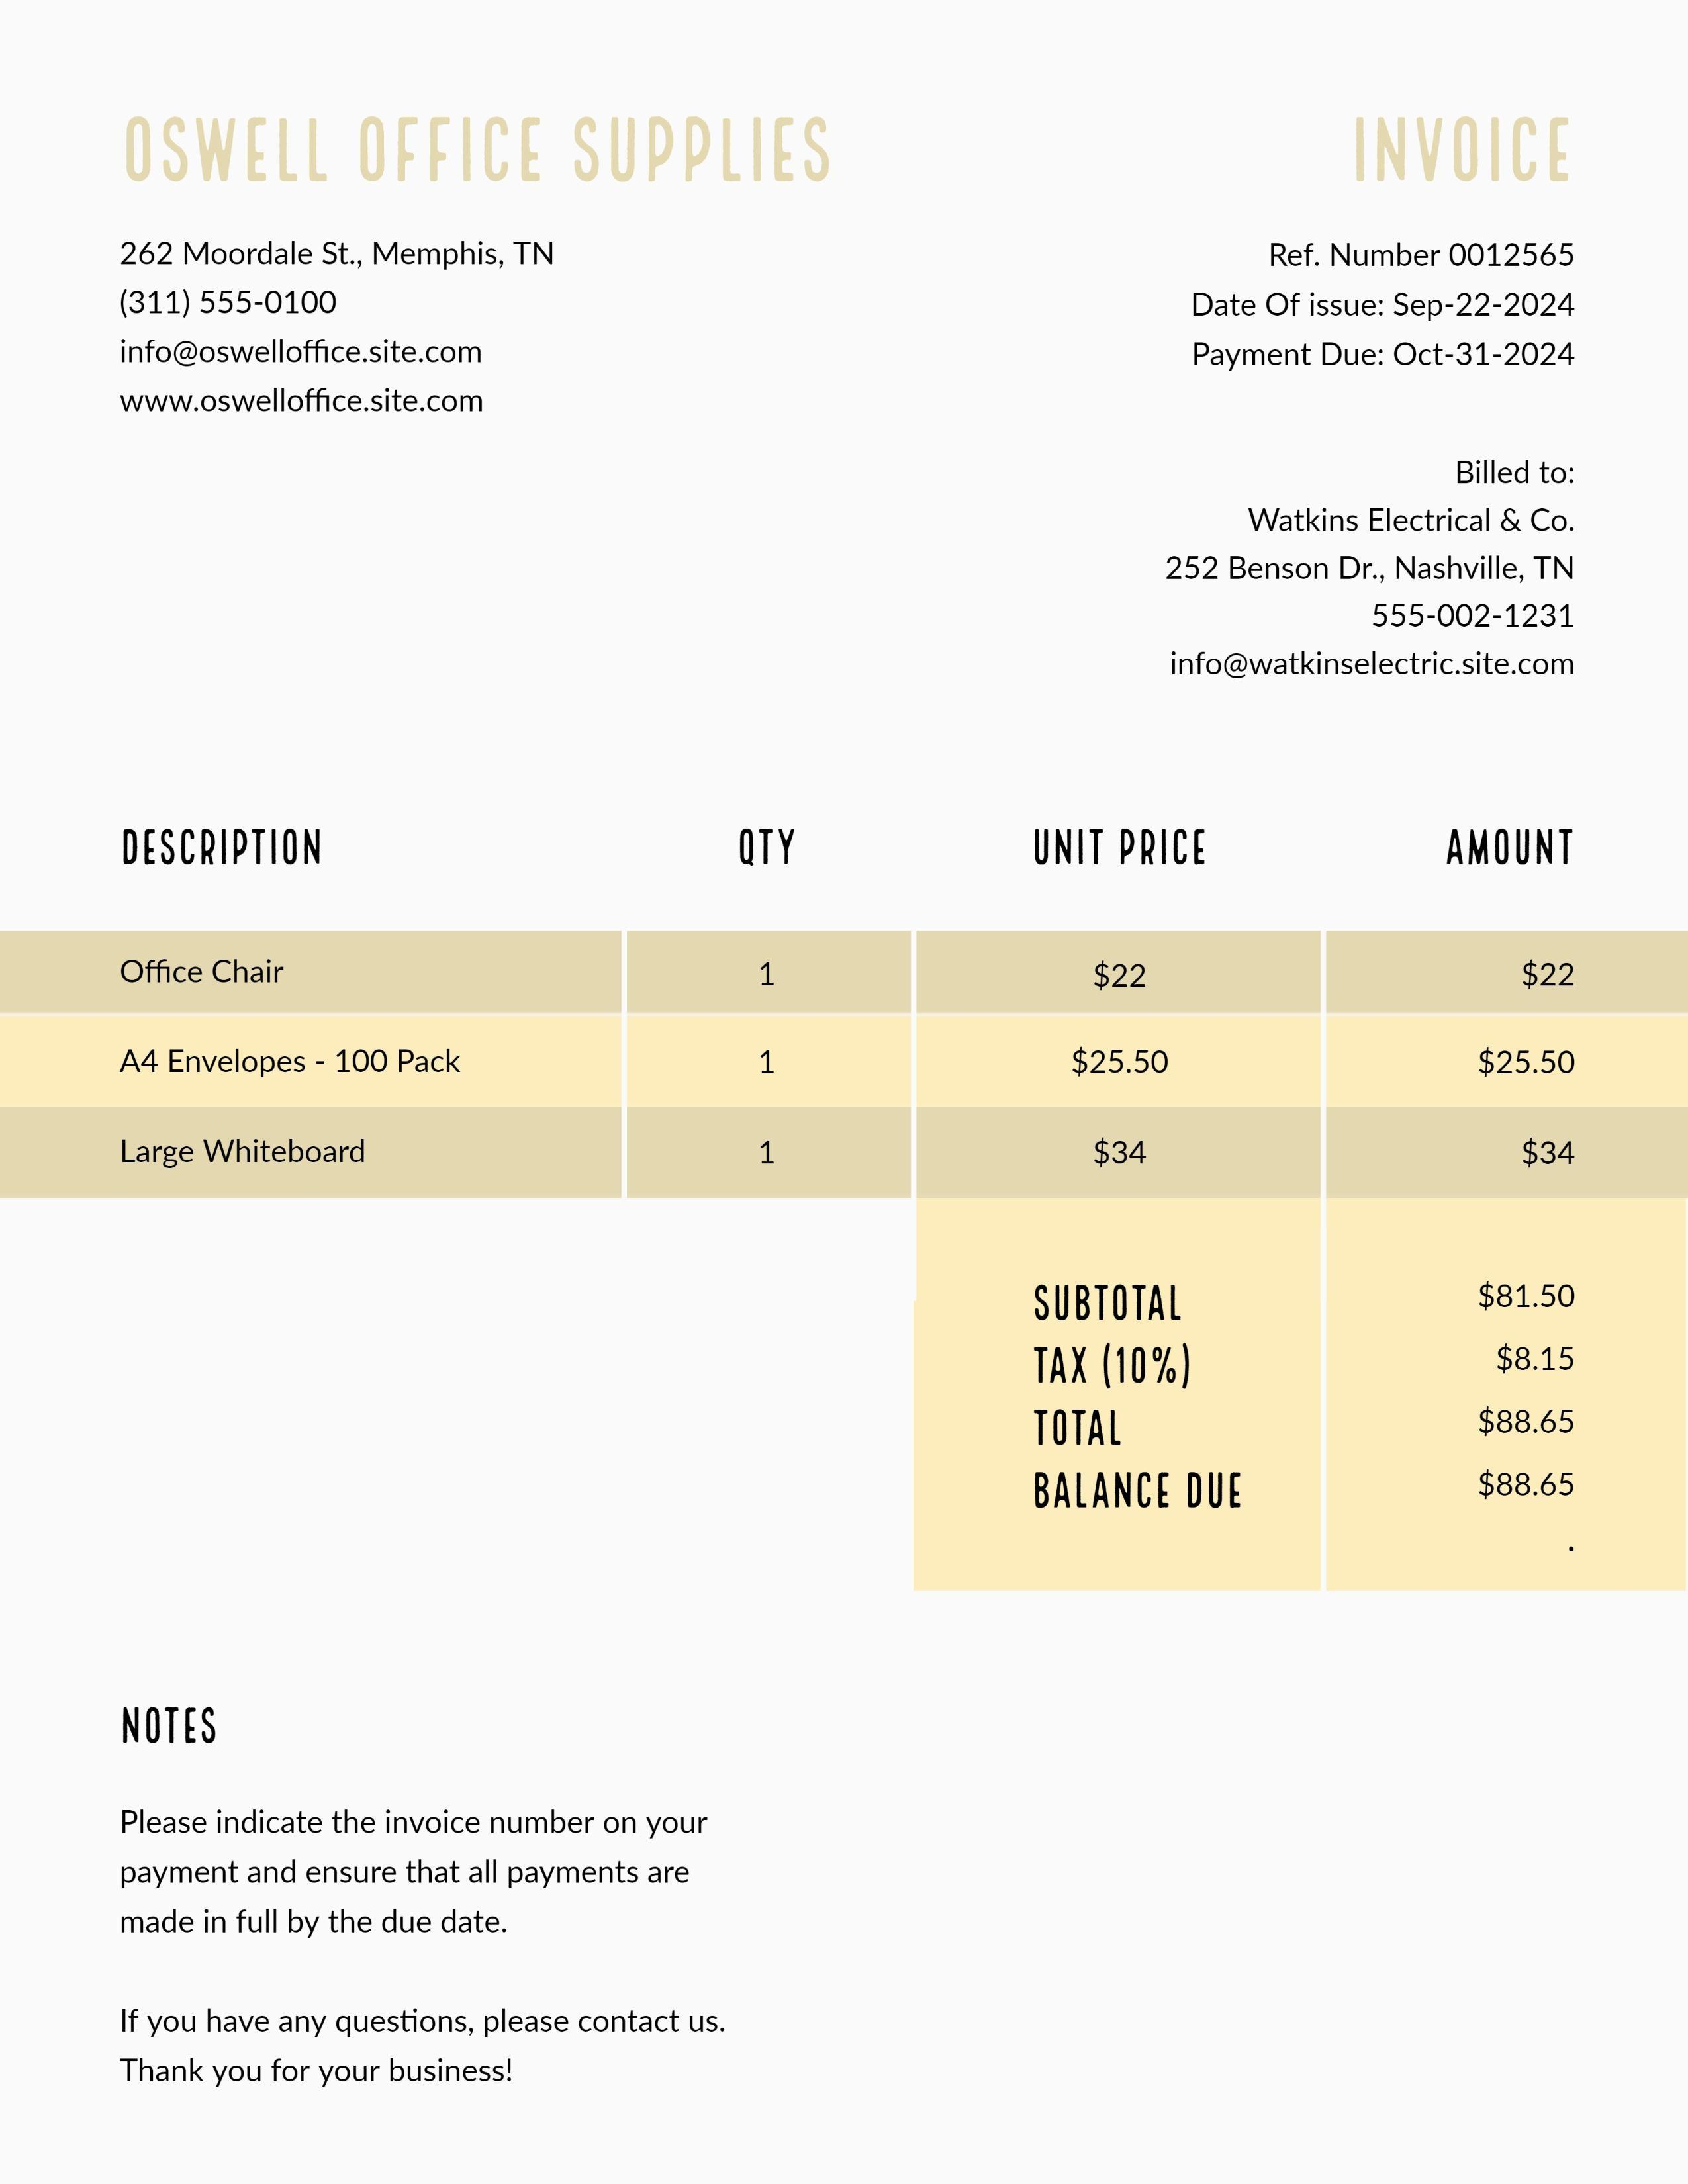ROI: (104, 813, 1637, 1201), (88, 72, 878, 435), (993, 1250, 1620, 1529), (1156, 433, 1615, 700), (117, 1784, 714, 1968), (1166, 217, 1593, 390)
